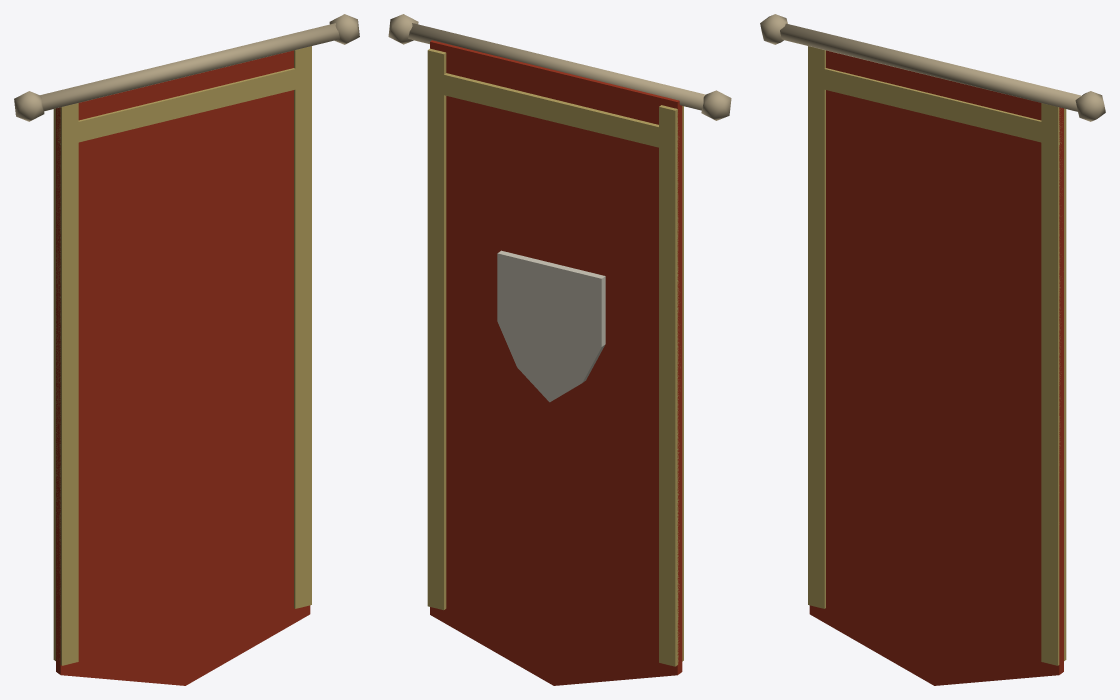
The model's file is parrot_banner_v0.glb.
3 renders of one model, left to right at view 1: azimuth 30°, elevation 25°; view 2: azimuth 150°, elevation 25°; view 3: azimuth 330°, elevation 25°, orthographic.
Visible parts, largest first — view 1: parrot_banner_v0; view 2: parrot_banner_v0; view 3: parrot_banner_v0.
Part boxes in pixels (x1,y1,x2,y2): parrot_banner_v0: (14, 14, 359, 685); parrot_banner_v0: (388, 14, 731, 685); parrot_banner_v0: (760, 14, 1105, 685).
Bounding box in the file's own units: 1.04 × 1.84 × 0.0933.
